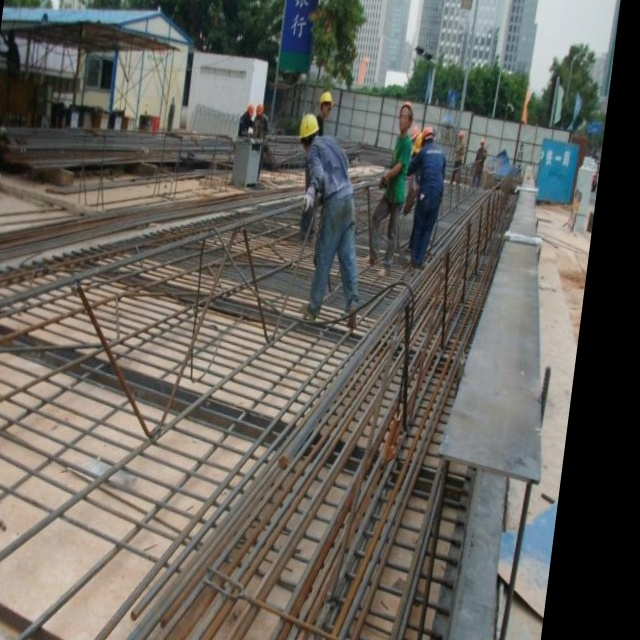Con_Casco: (295, 109, 322, 153)
Sin_Chaleco: (381, 133, 413, 204)
